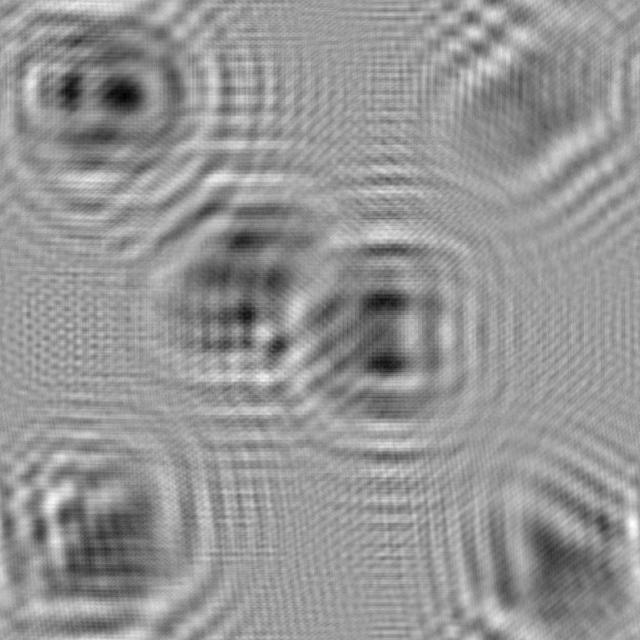E: (266, 183, 497, 482)
I: (387, 0, 640, 241)
K: (0, 385, 250, 640)
N: (123, 171, 349, 416)
R: (0, 0, 259, 240)
V: (408, 404, 640, 639)
